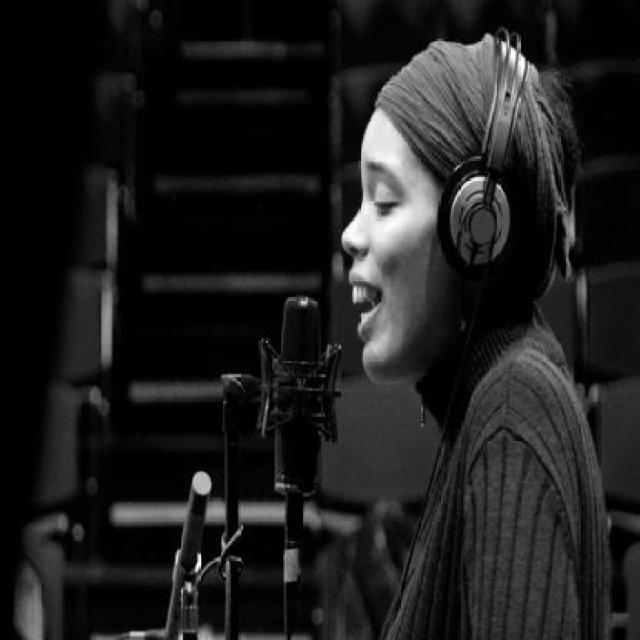earphone: (425, 32, 542, 288)
